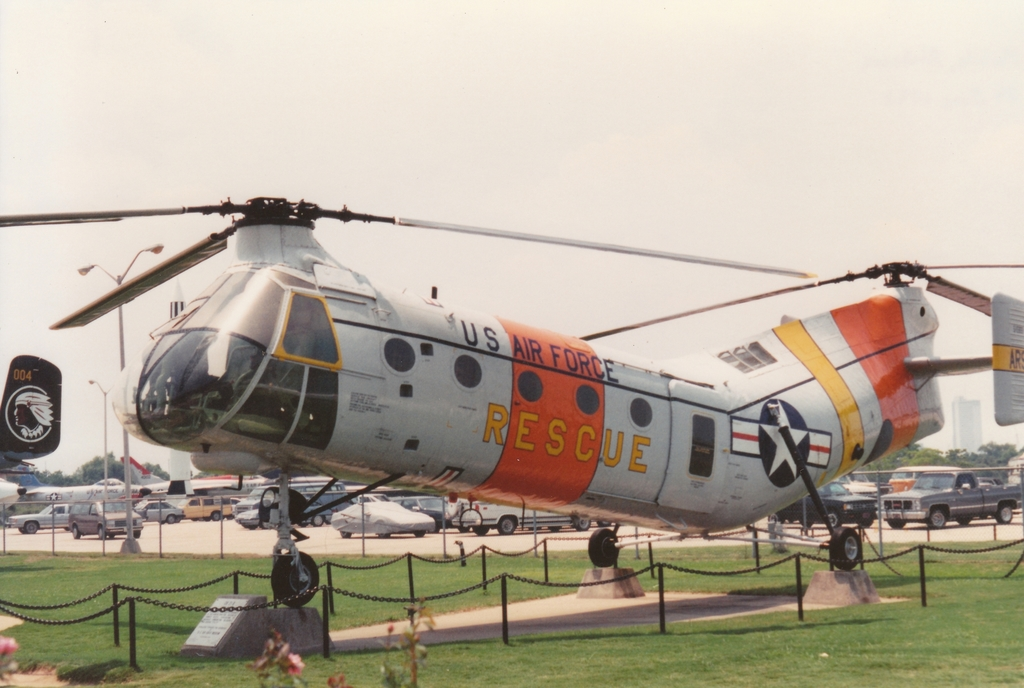Tree: (0, 449, 168, 525), (855, 442, 1021, 483)
